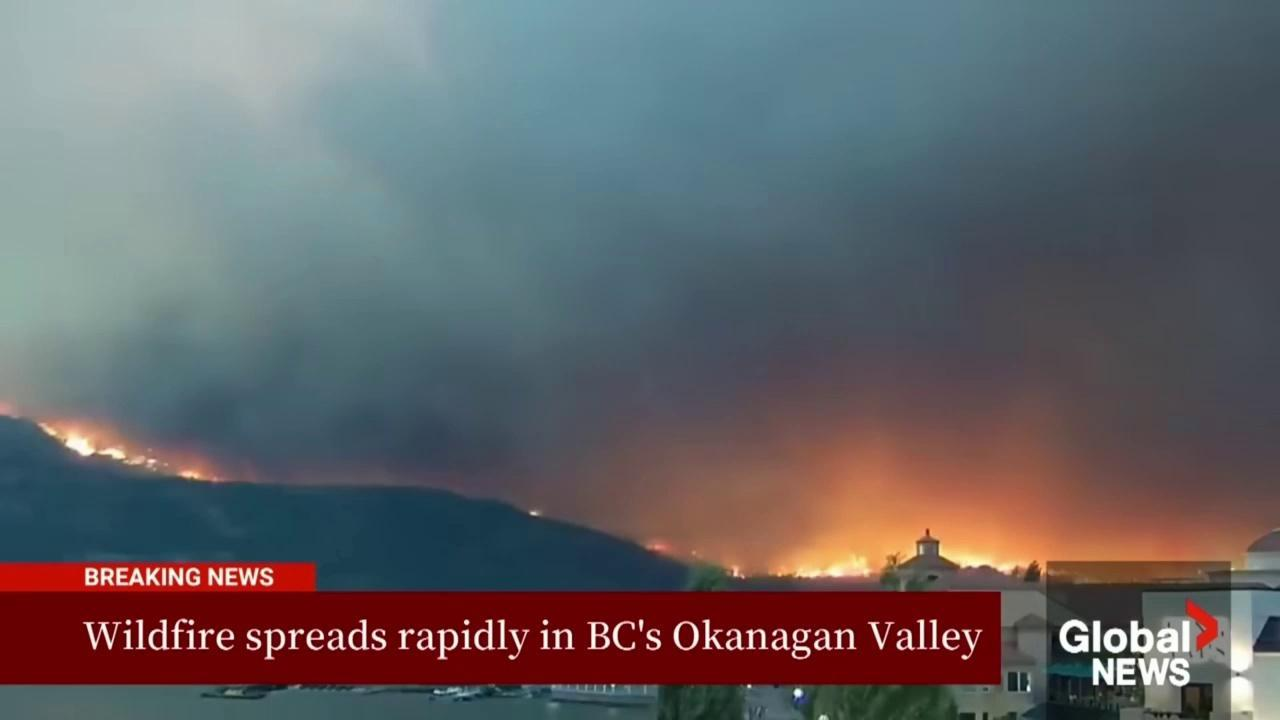fire: (37, 420, 168, 479), (769, 548, 874, 578), (937, 549, 1037, 578), (176, 468, 228, 485), (726, 565, 747, 581), (643, 541, 672, 552)
smoke: (0, 0, 1280, 581)
